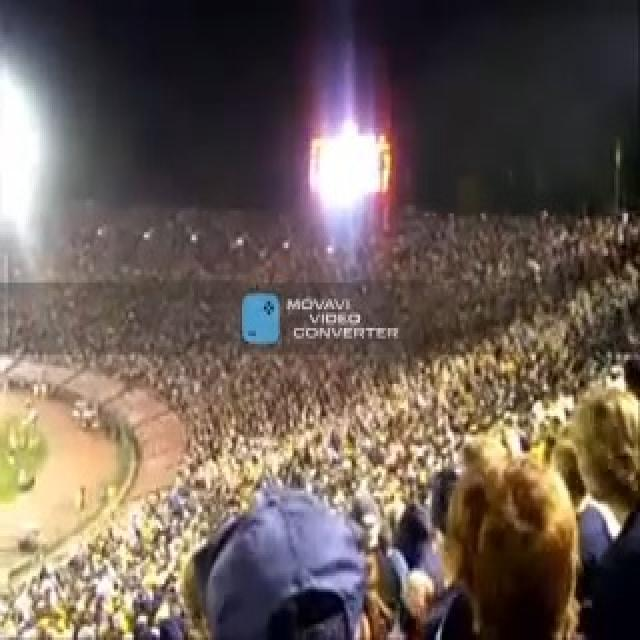non-voilence: (0, 200, 638, 637), (282, 291, 400, 344)
